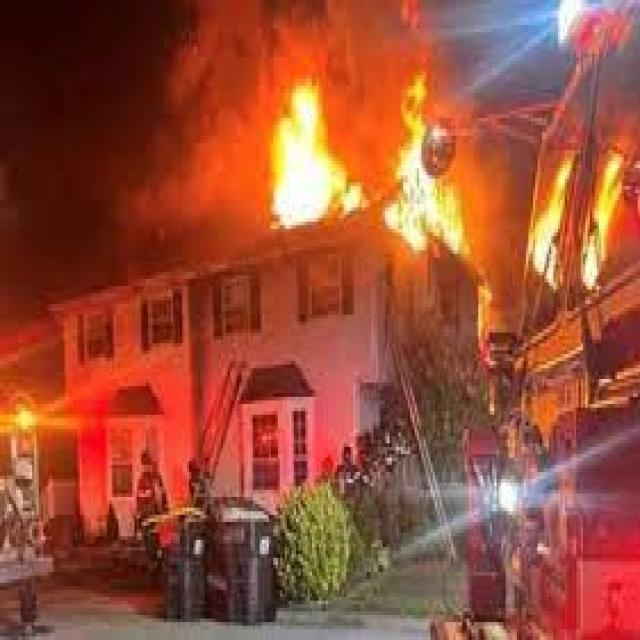Fire: (137, 0, 469, 144), (252, 82, 348, 224), (394, 71, 460, 259), (548, 152, 628, 282)
